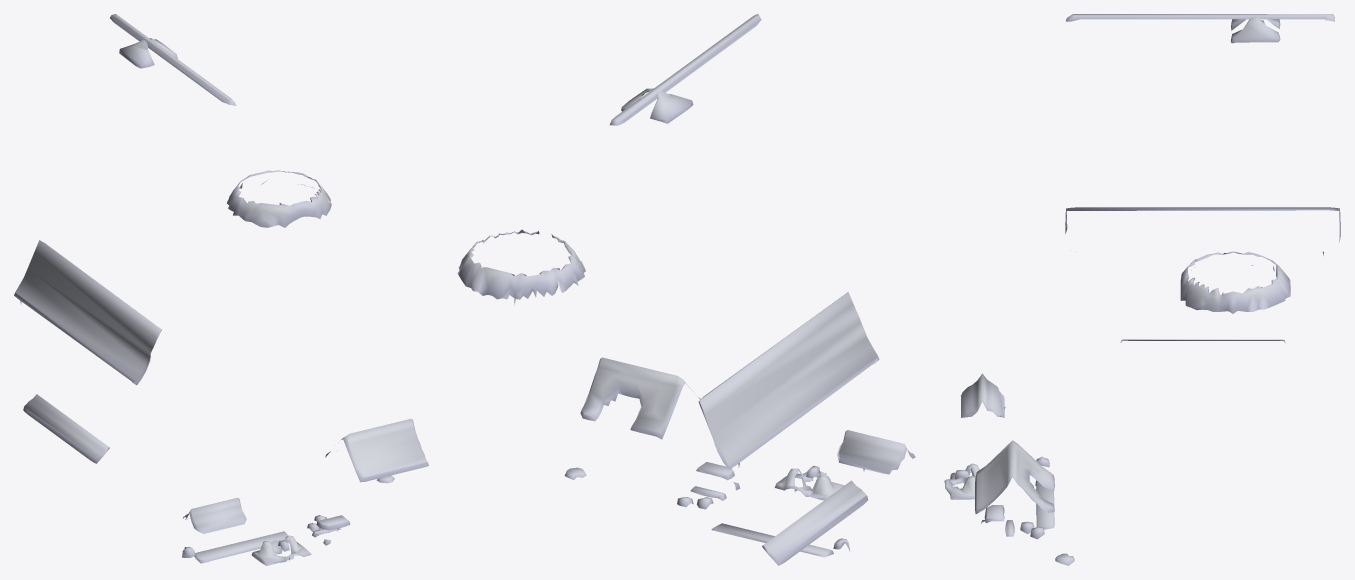
File: category.staking.l.snow.glb
3 renders of one model, left to right at view 1: azimuth 30°, elevation 25°; view 2: azimuth 150°, elevation 25°; view 3: azimuth 270°, elevation 25°, orthographic. The views are drawn at different scales.
Visible parts, largest first — view 1: snow, tier.2; view 2: snow, tier.2; view 3: snow, tier.2.
Boxes of the visible parts, left/top/right/bottom form: snow: left=14, top=14, right=428, bottom=565; tier.2: left=119, top=38, right=177, bottom=68; snow: left=457, top=14, right=915, bottom=565; tier.2: left=621, top=87, right=693, bottom=123; snow: left=944, top=14, right=1340, bottom=565; tier.2: left=1231, top=14, right=1280, bottom=43.
Size of the model in its own units: 9.35 by 14.07 by 10.28.
